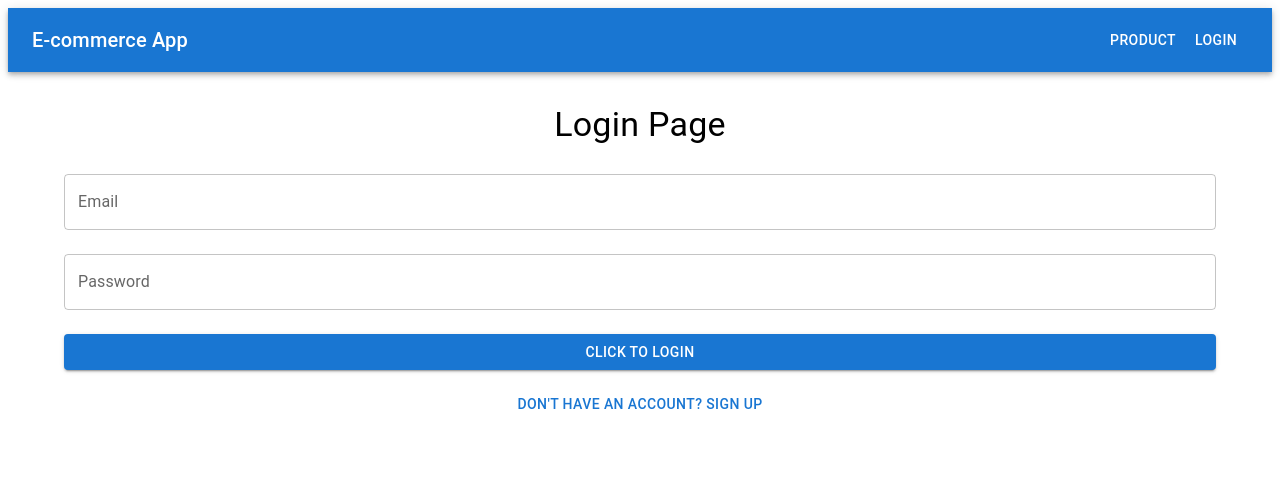
Cart Page Functionality › 1. Shows empty message if no items in cart
Click the button "Click to Login": (640,353) x1=64 y1=334 x2=1216 y2=371
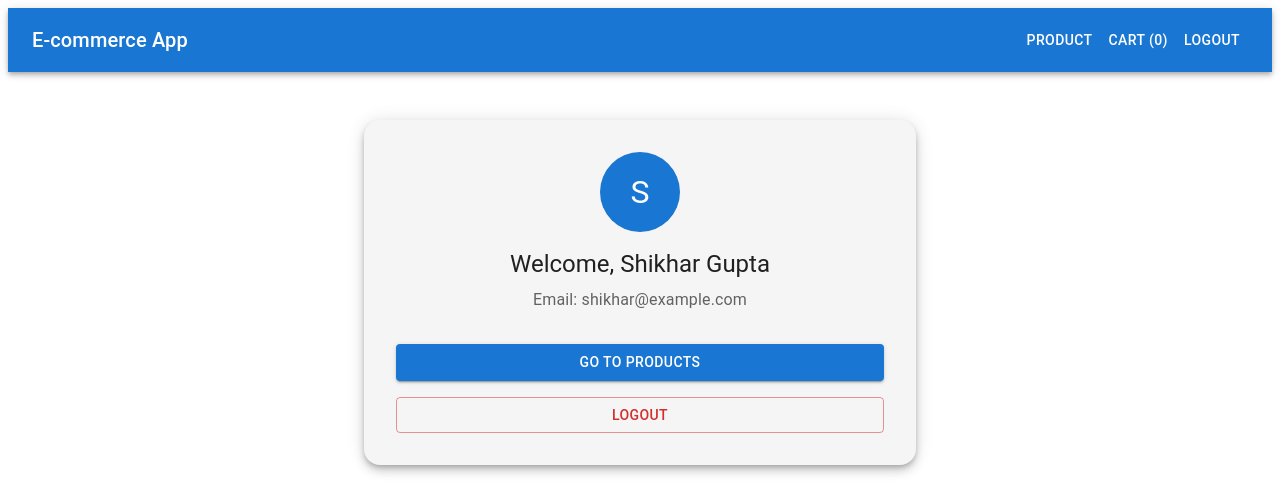
Click the link "Cart (0)": (1139,40) x1=1109 y1=32 x2=1168 y2=48
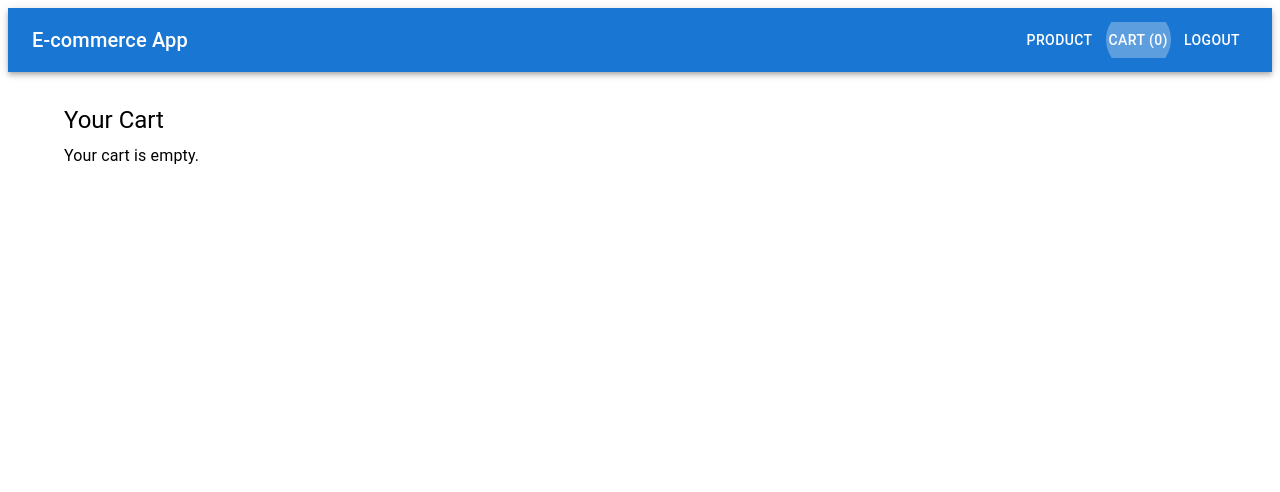
Expected: the text "Your cart is empty." is shown, x1=64 y1=146 x2=199 y2=165
